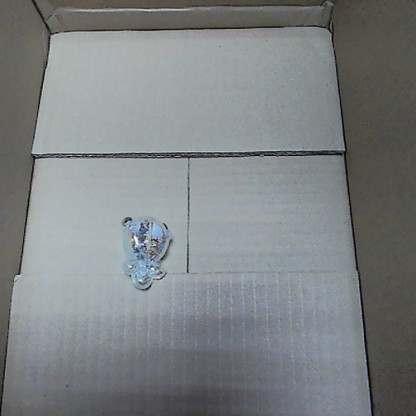whitefish: (116, 210, 172, 291)
